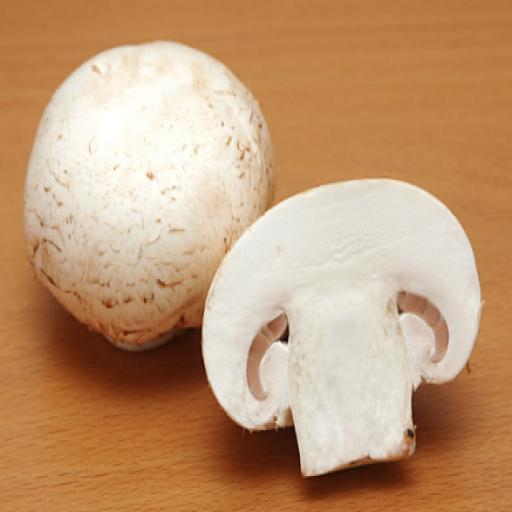Button Mushroom: (196, 172, 485, 485), (22, 37, 280, 355)
